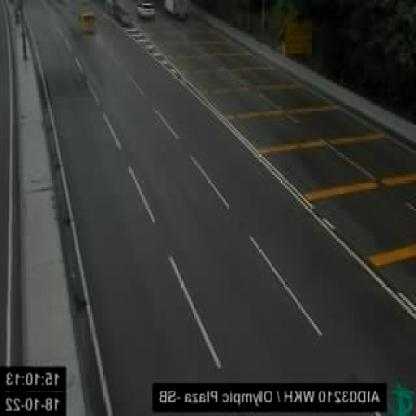Car: (78, 8, 96, 34), (137, 2, 157, 20)
Truck: (159, 1, 191, 20)
